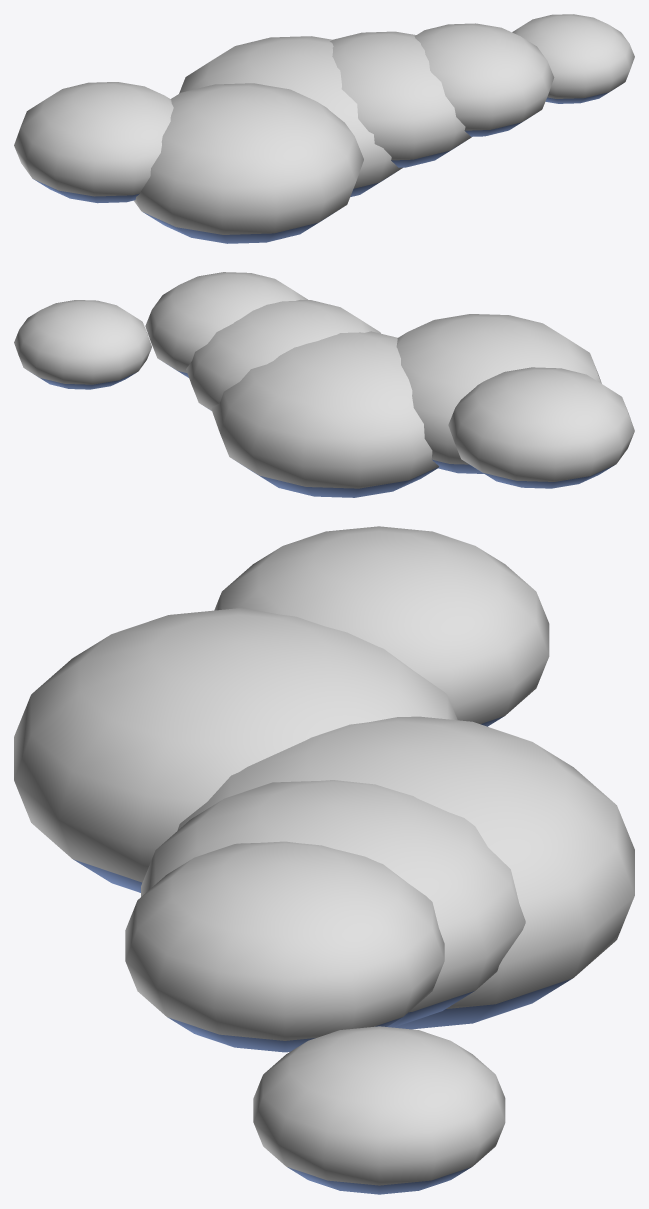
The model's file is SM_Cloud_A.fbx.
3 renders of one model, top to bottom at view 1: azimuth 30°, elevation 25°; view 2: azimuth 150°, elevation 25°; view 3: azimuth 270°, elevation 25°, orthographic. The views are drawn at different scales.
Parts seen in each view (by area): view 1: SM_Cloud_A; view 2: SM_Cloud_A; view 3: SM_Cloud_A.
Boxes of the visible parts, x1,y1,x2,y2 form: SM_Cloud_A: (14,14,634,243); SM_Cloud_A: (14,272,634,497); SM_Cloud_A: (14,526,634,1194).
Bounding box in the file's own units: 21.22 × 10.21 × 4.77.
